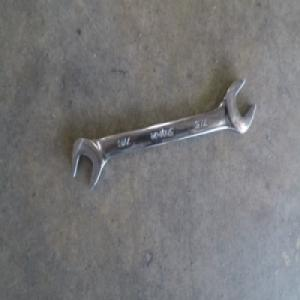Wrench: (69, 77, 259, 196)
